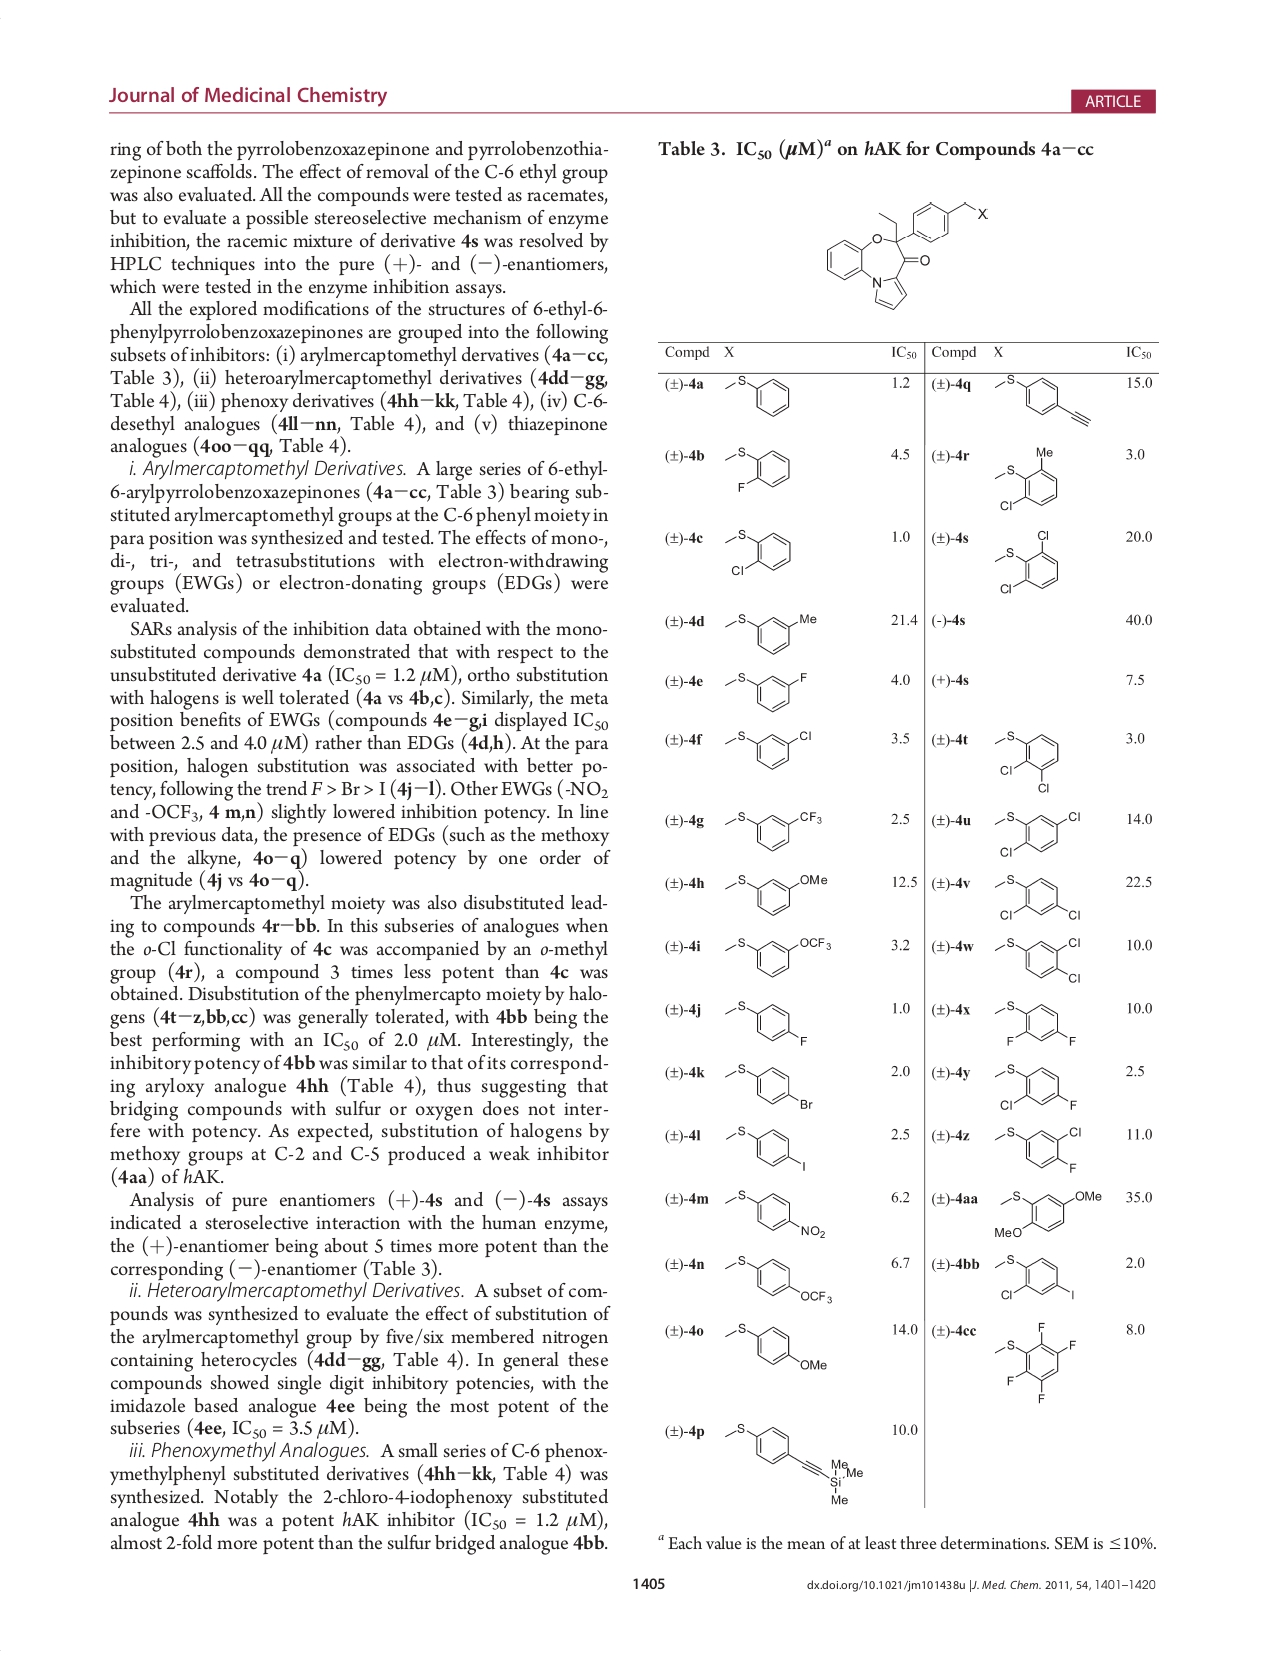exist_molecular: (821, 199, 989, 313), (719, 1412, 864, 1508), (989, 1317, 1081, 1406), (985, 1188, 1104, 1246), (721, 1251, 836, 1309), (719, 1317, 830, 1376), (717, 1186, 827, 1242), (721, 926, 832, 980), (989, 372, 1093, 430), (989, 1121, 1086, 1178), (721, 802, 826, 852), (722, 1059, 817, 1114), (989, 726, 1063, 798), (719, 606, 819, 658), (987, 1059, 1078, 1114), (721, 870, 830, 916), (992, 934, 1085, 988), (993, 805, 1082, 860), (993, 870, 1082, 926), (721, 996, 811, 1051), (721, 1121, 811, 1174), (989, 446, 1059, 515), (993, 997, 1078, 1052), (993, 529, 1061, 594), (717, 729, 817, 770), (992, 1254, 1077, 1302), (721, 670, 811, 713), (722, 442, 793, 493), (722, 527, 793, 575), (722, 375, 794, 418)
